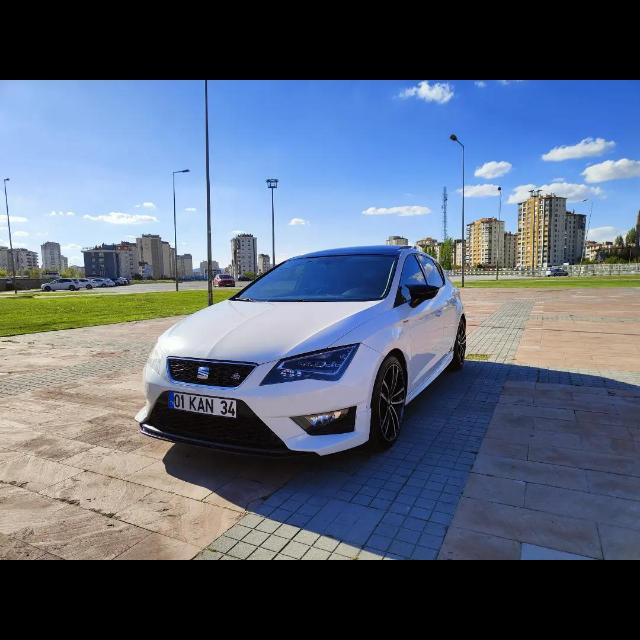Plaka: (170, 390, 240, 418)
